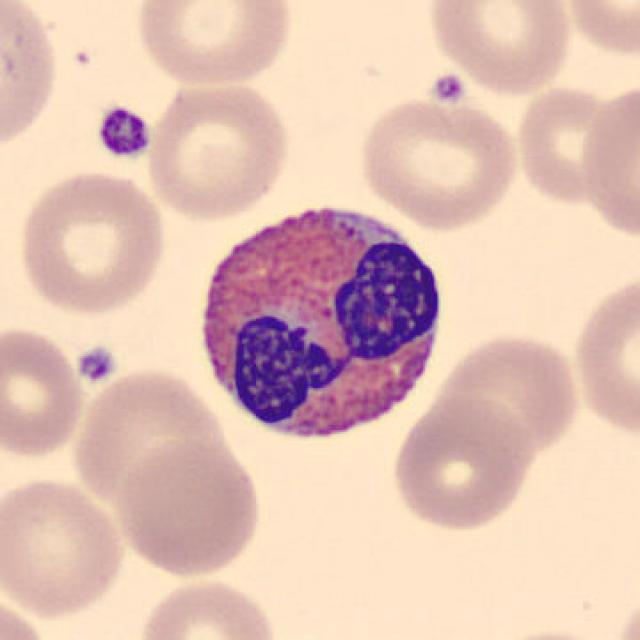Eosinophil: (187, 184, 457, 458)
Platelets: (92, 102, 154, 162), (73, 344, 119, 386), (427, 70, 468, 108)
RBC: (353, 91, 522, 232), (14, 166, 169, 317), (69, 363, 226, 511), (142, 76, 294, 224), (112, 436, 265, 578), (387, 393, 537, 534), (434, 328, 583, 458), (0, 472, 130, 620), (510, 80, 631, 212), (423, 0, 576, 97), (130, 0, 297, 88), (0, 323, 89, 462), (569, 266, 638, 444), (578, 74, 638, 245), (0, 0, 64, 159), (133, 573, 283, 640), (558, 0, 638, 60), (0, 587, 53, 640)
